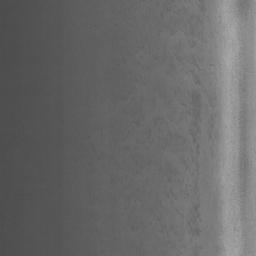Silk spot: (138, 0, 225, 256), (147, 117, 163, 139)
